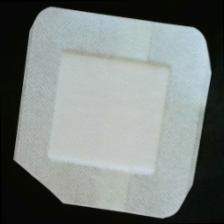Cut: (10, 4, 219, 224)
